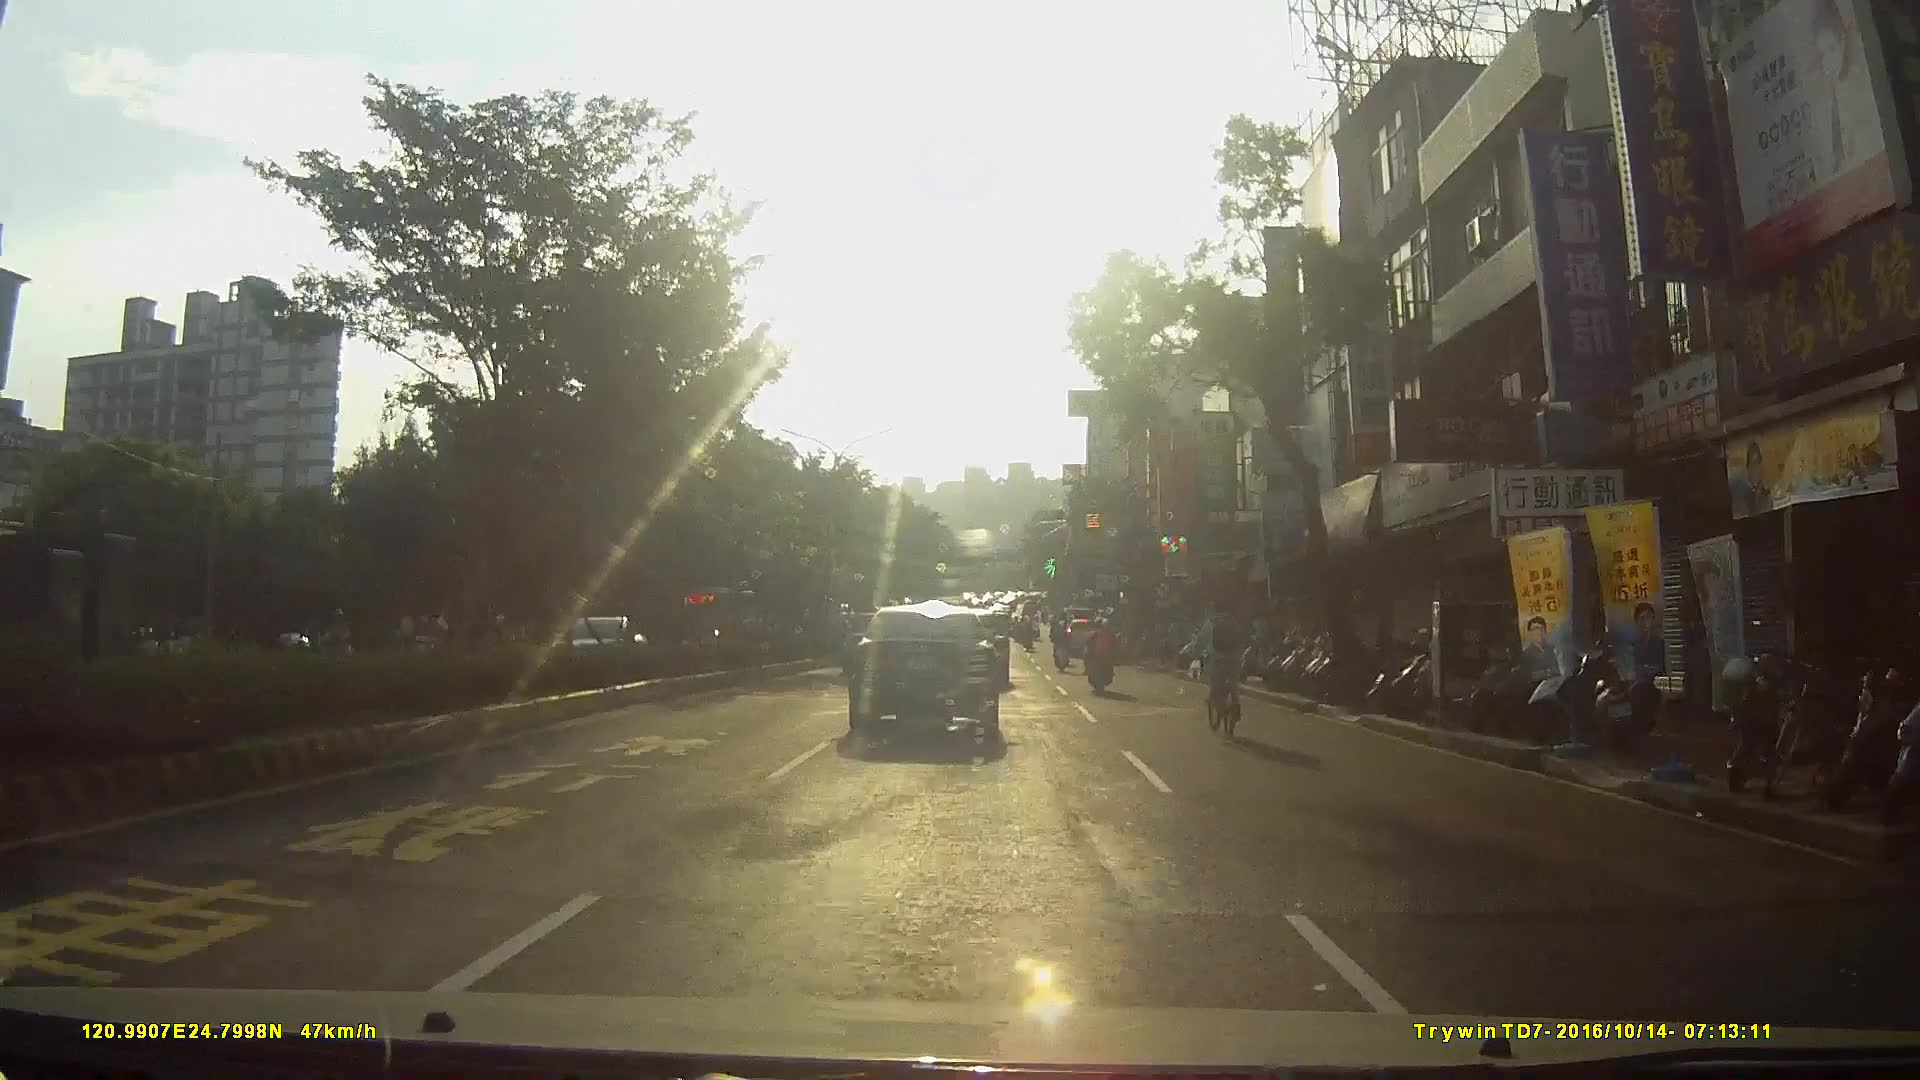rider: (1196, 591, 1262, 738), (314, 607, 357, 679), (1085, 612, 1118, 689), (1050, 612, 1074, 669)
vehicle: (847, 605, 1015, 753), (547, 612, 661, 676)
